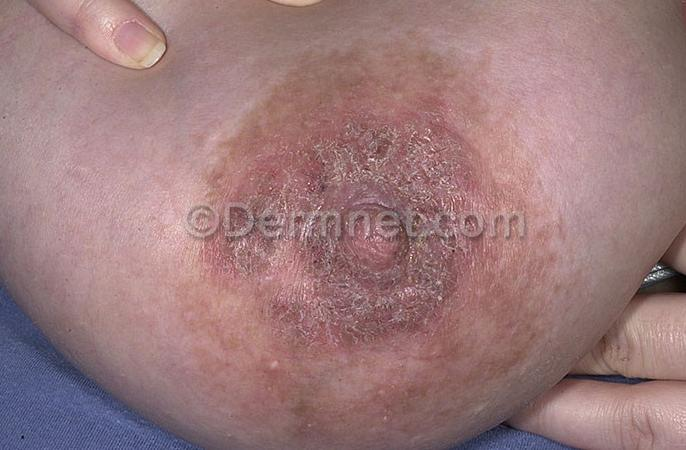edema 2: (197, 114, 503, 366)
eritema 3: (197, 51, 541, 401)
xerosis 3: (186, 50, 547, 421)
